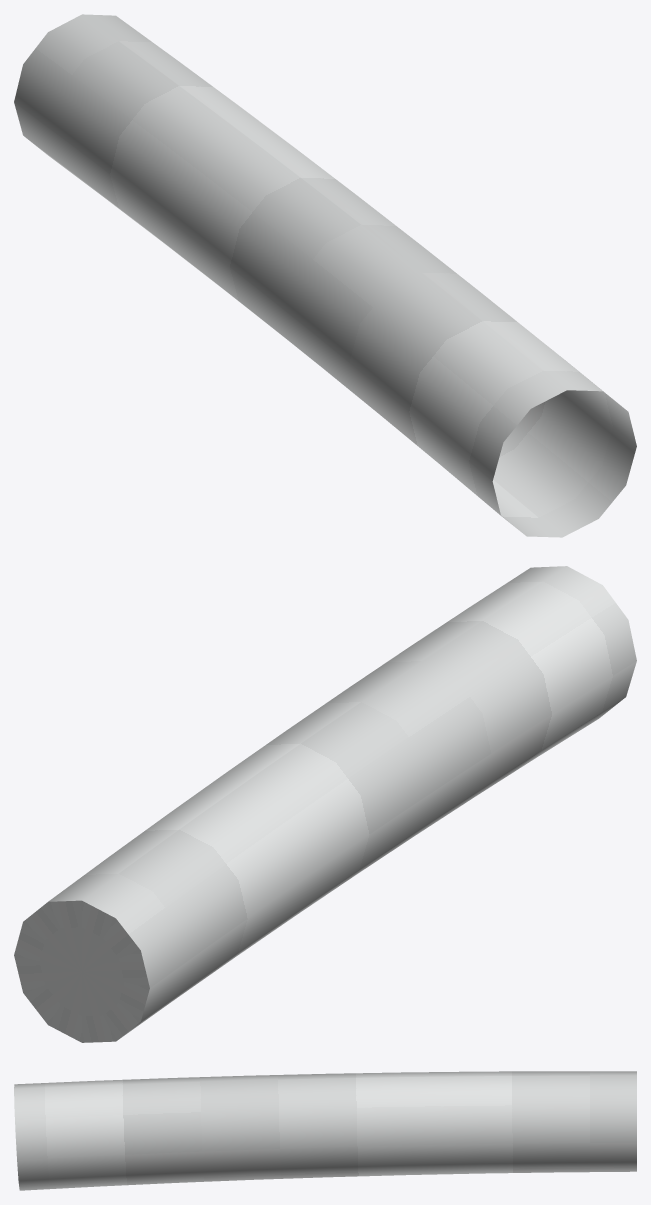
Rendered from luminairearm_vannuystriple_c12.obj.
3 views of the same model, one above another, from view 1: azimuth 30°, elevation 25°; view 2: azimuth 150°, elevation 25°; view 3: azimuth 270°, elevation 25° (orthographic). The views are drawn at different scales.
Parts seen in each view (by area): view 1: luminairearm_vannuystriple_c12; view 2: luminairearm_vannuystriple_c12; view 3: luminairearm_vannuystriple_c12.
Boxes of the visible parts, x1,y1,x2,y2 form: luminairearm_vannuystriple_c12: (14,14,636,537); luminairearm_vannuystriple_c12: (14,566,636,1042); luminairearm_vannuystriple_c12: (14,1071,636,1190).
Bounding box in the file's own units: 0.1725 × 0.196 × 1.
